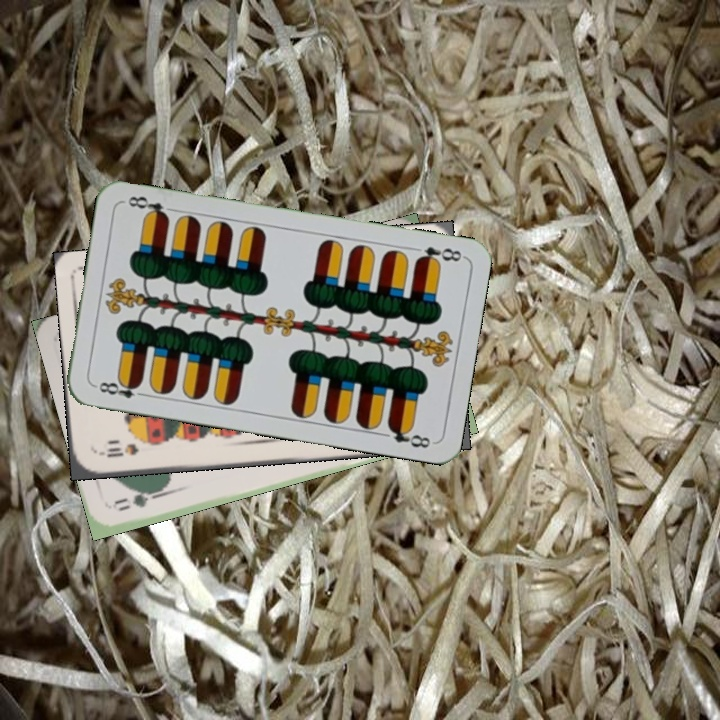E8: (90, 375, 149, 401), (412, 242, 466, 268)
GO: (115, 485, 167, 514)
S10: (95, 440, 141, 460)
